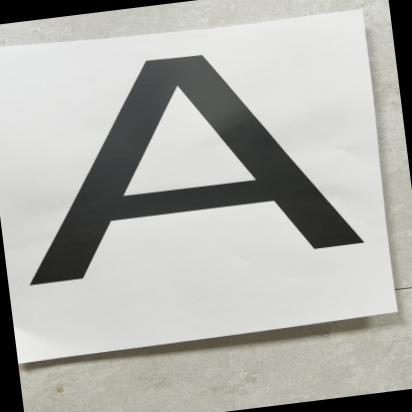seat: (2, 20, 373, 293)
